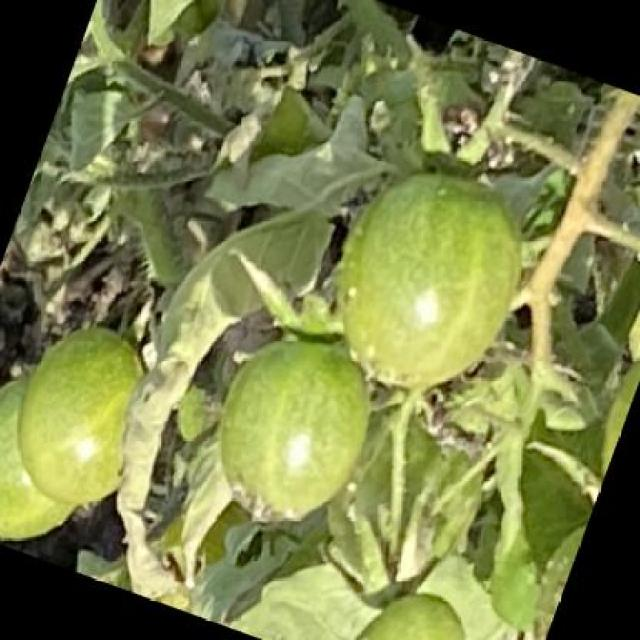unripe tomato: (304, 140, 554, 414), (190, 314, 395, 543), (0, 311, 168, 512), (0, 358, 117, 558), (343, 574, 492, 638)
